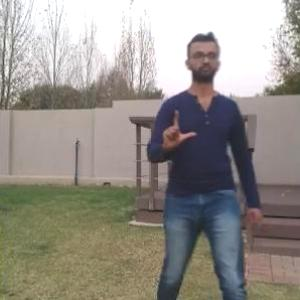land_hand: (157, 105, 203, 157)
